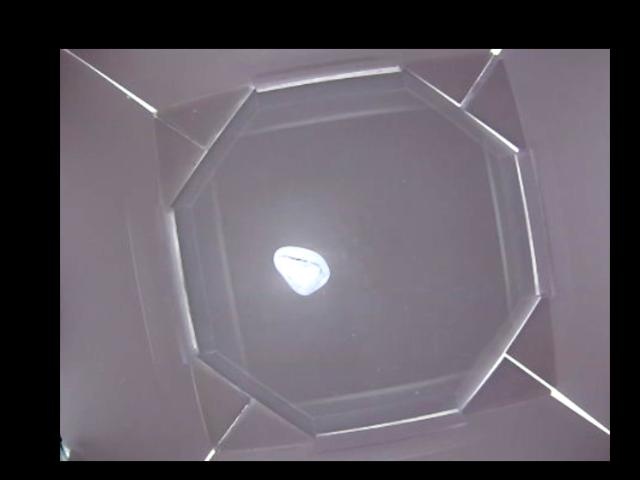Pebble: (272, 243, 331, 295)
